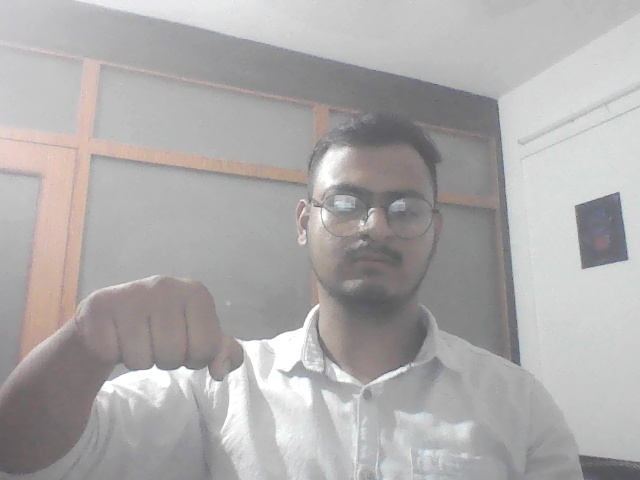YES: (69, 271, 253, 387)
